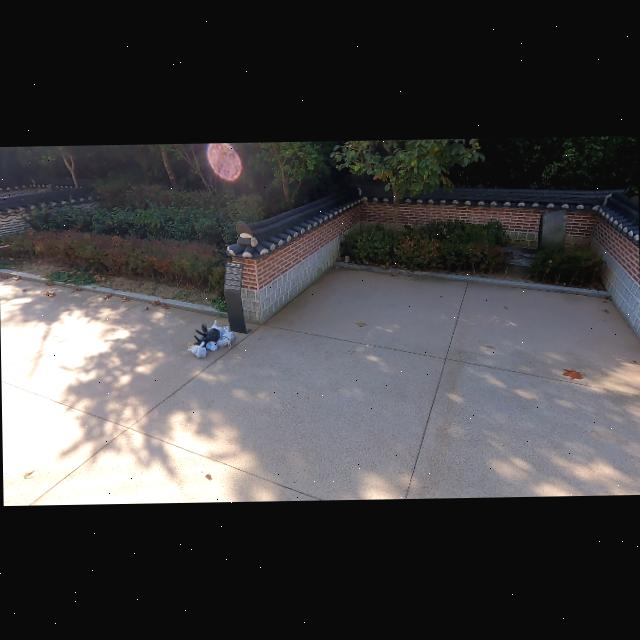trash: (195, 322, 219, 340), (187, 340, 208, 358), (216, 332, 233, 347), (208, 319, 224, 333), (223, 324, 235, 339), (191, 334, 206, 344), (206, 340, 217, 350)
